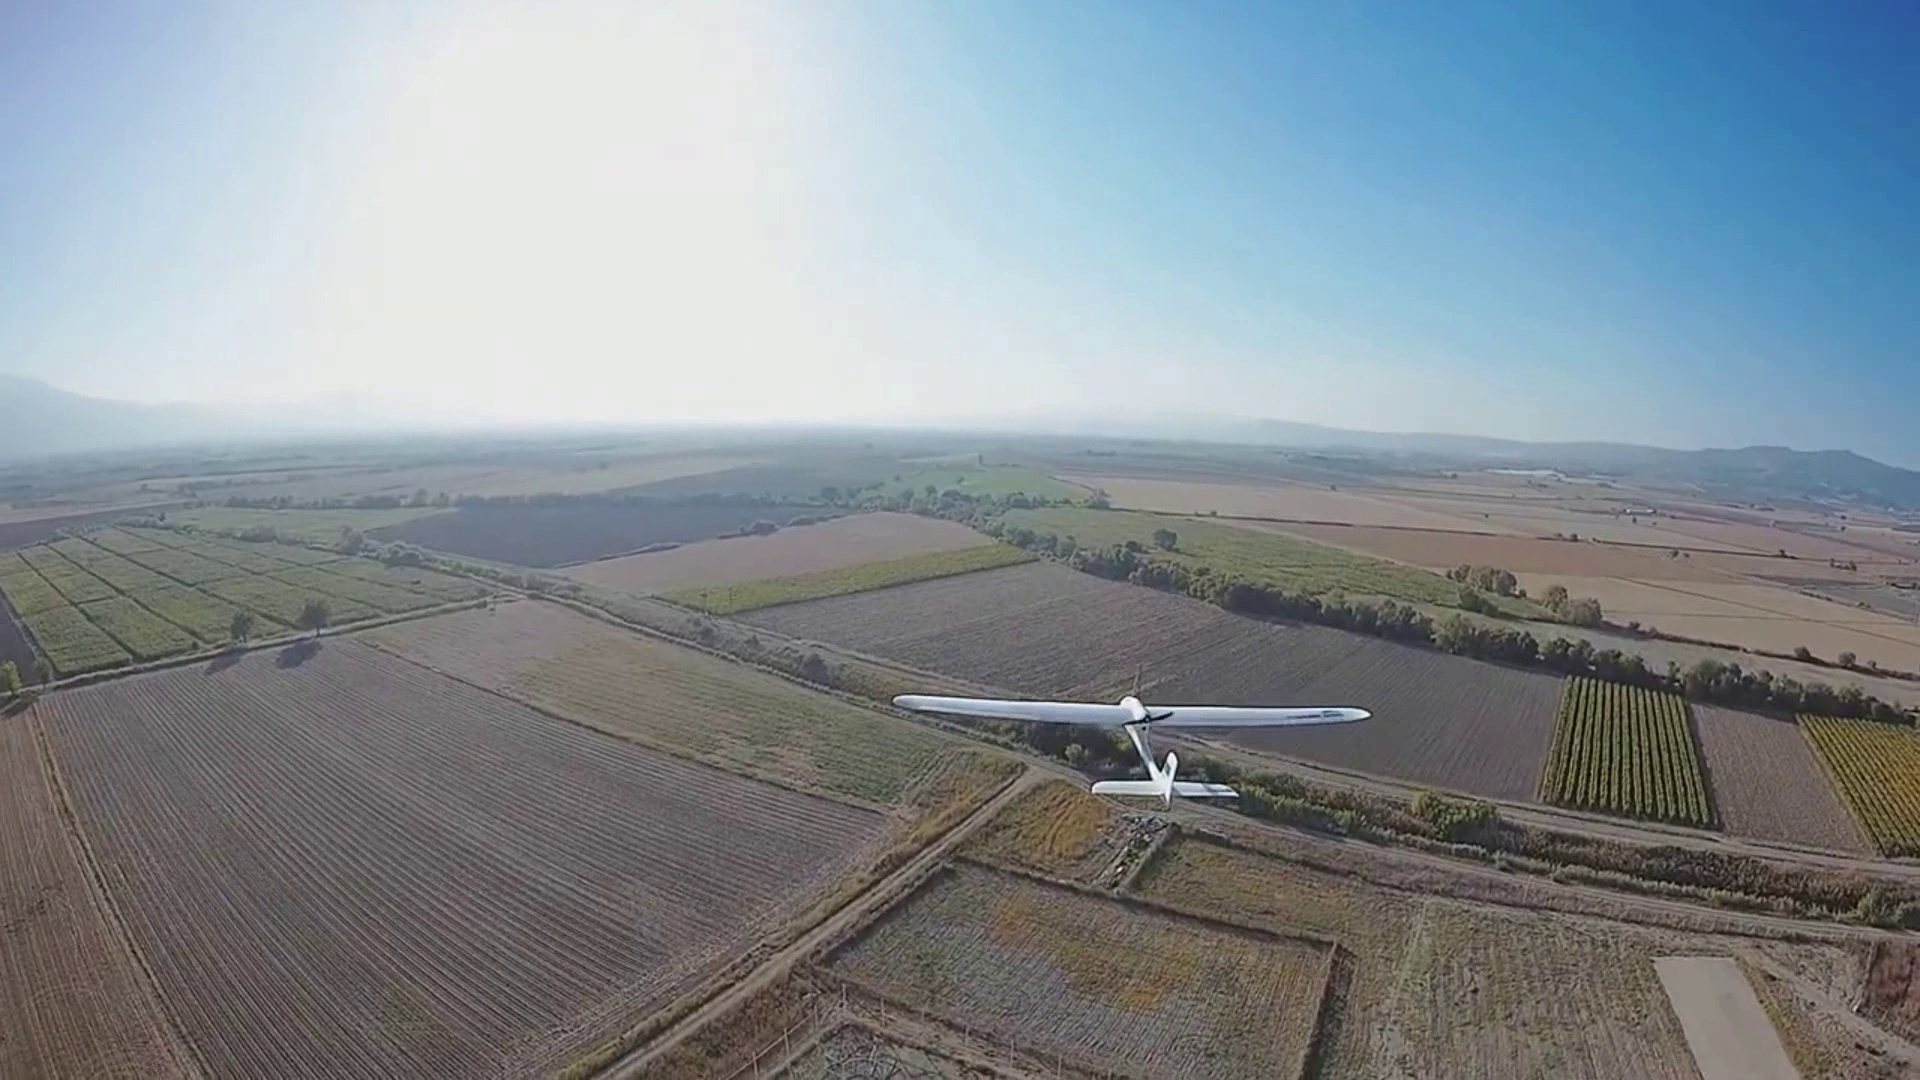airplane: (890, 683, 1371, 804)
